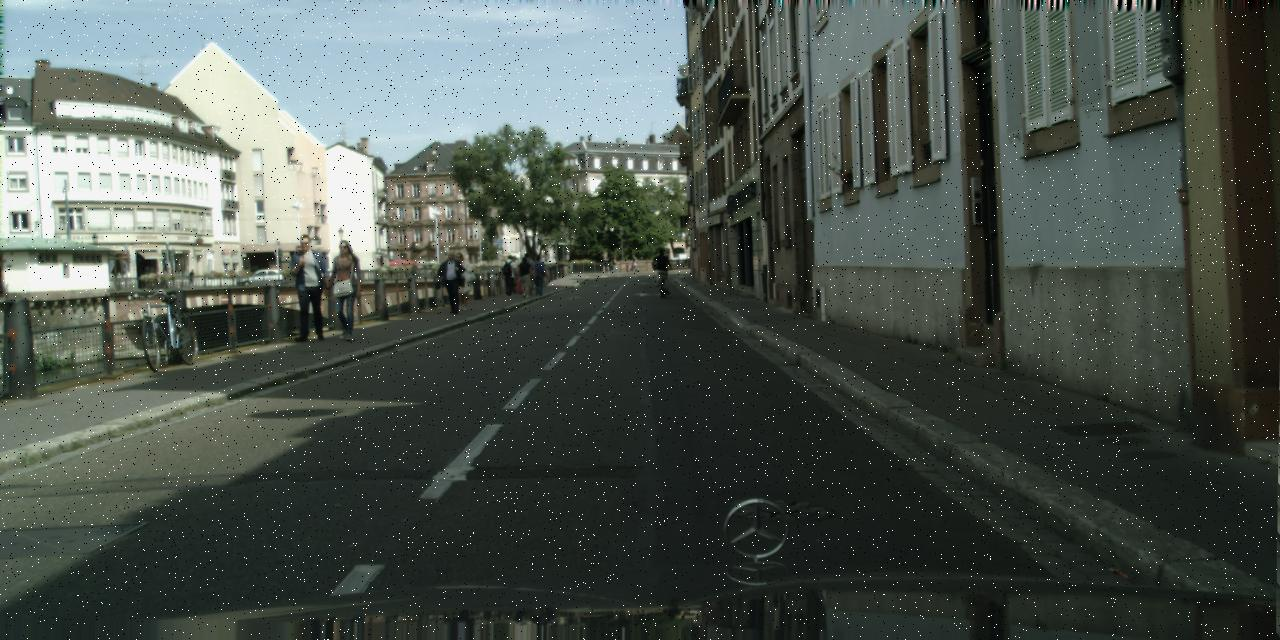ped: (286, 234, 330, 340), (324, 239, 364, 340), (438, 250, 464, 312), (448, 252, 472, 310), (518, 253, 536, 295), (500, 255, 518, 297), (654, 248, 670, 290), (530, 254, 546, 295), (517, 257, 533, 297), (600, 250, 609, 273), (629, 253, 639, 272), (610, 254, 618, 275), (188, 269, 195, 287), (411, 262, 418, 279), (513, 277, 518, 295), (511, 256, 517, 262)
